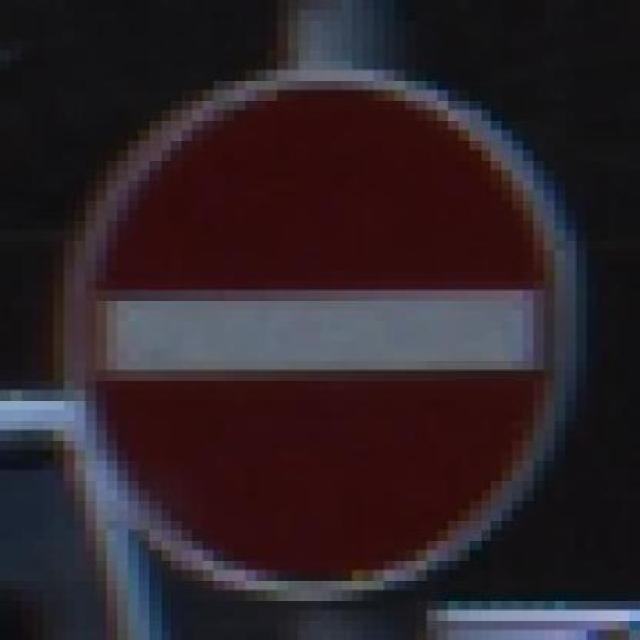No Entry: (30, 70, 596, 601)
